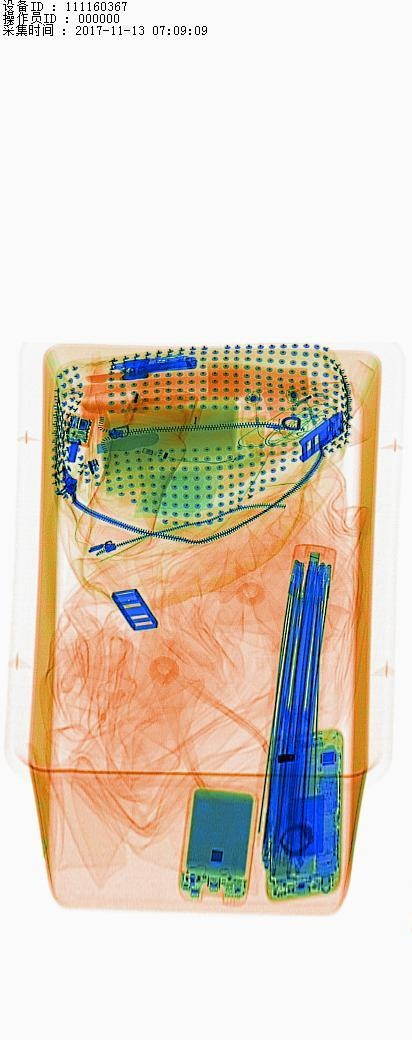coreless: (199, 786, 251, 893)
